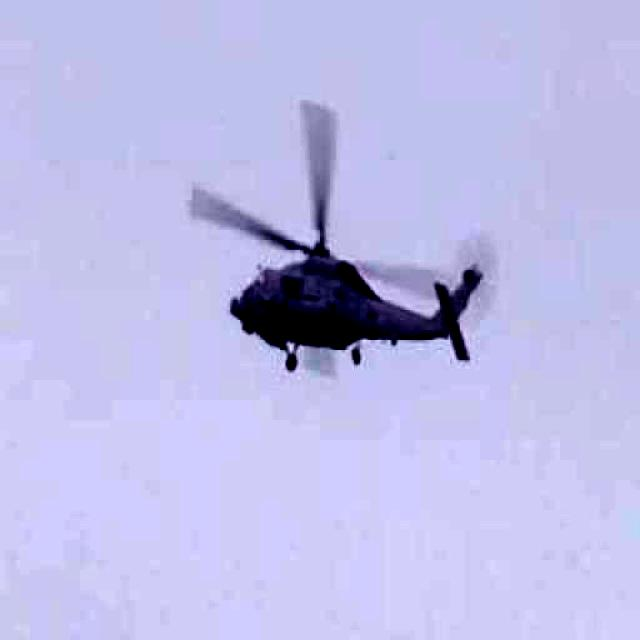drone: (136, 38, 546, 428)
